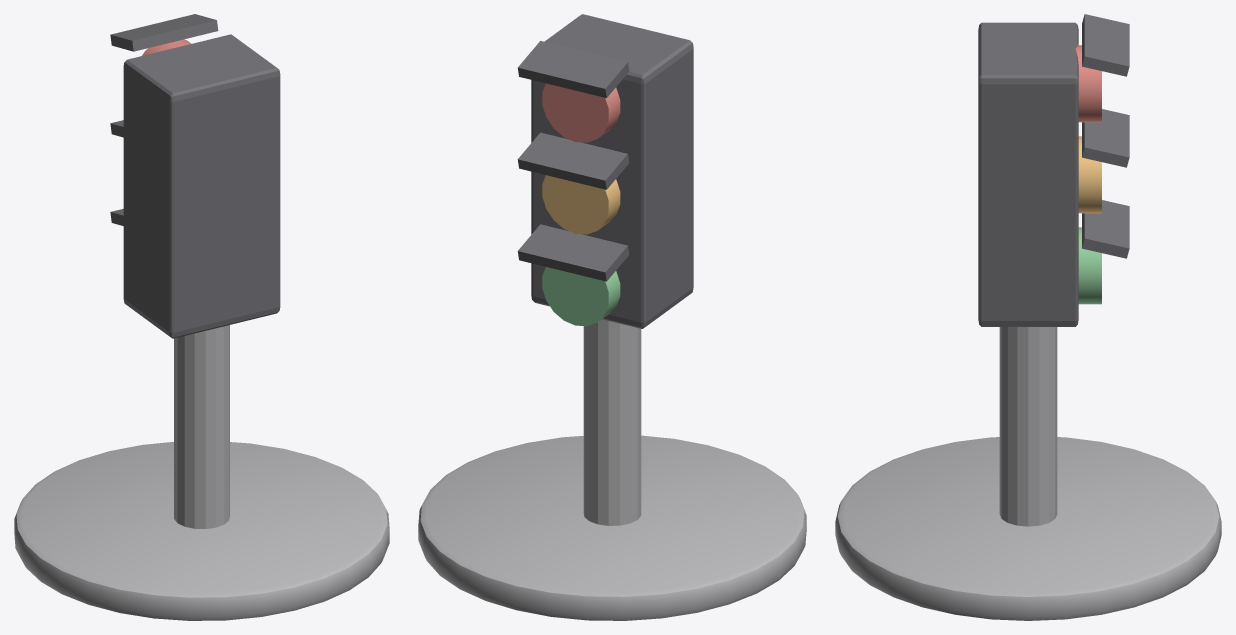
The model's file is token-robot.glb.
The picture shows the model from 3 angles, left to right: view 1: azimuth 30°, elevation 25°; view 2: azimuth 150°, elevation 25°; view 3: azimuth 270°, elevation 25°; orthographic projection. The views are drawn at different scales.
Parts seen in each view (by area): view 1: token_base, signal_head, signal_post, signal_hood; view 2: token_base, signal_head, signal_post, signal_hood, signal_hood.001, signal_hood.002, signal_lens.002, signal_lens, signal_lens.001; view 3: token_base, signal_head, signal_post, signal_hood, signal_hood.001, signal_hood.002, signal_lens, signal_lens.001, signal_lens.002.
Part boxes in pixels (x1,y1,x2,y2): token_base: [14, 442, 389, 620]; signal_head: [123, 34, 280, 338]; signal_post: [174, 325, 229, 528]; signal_hood: [110, 14, 218, 51]; token_base: [418, 435, 806, 620]; signal_head: [531, 14, 693, 328]; signal_post: [583, 319, 641, 525]; signal_hood: [517, 41, 629, 98]; signal_hood.001: [517, 132, 629, 189]; signal_hood.002: [517, 224, 629, 281]; signal_lens.002: [542, 267, 620, 326]; signal_lens: [542, 83, 620, 142]; signal_lens.001: [542, 175, 620, 234]; token_base: [835, 437, 1221, 620]; signal_head: [978, 22, 1078, 326]; signal_post: [999, 327, 1057, 526]; signal_hood: [1082, 14, 1129, 76]; signal_hood.001: [1082, 109, 1129, 167]; signal_hood.002: [1082, 200, 1129, 258]; signal_lens: [1076, 45, 1101, 122]; signal_lens.001: [1078, 136, 1101, 213]; signal_lens.002: [1078, 227, 1101, 304].
Bounding box in the file's own units: 1 × 1.45 × 1.
